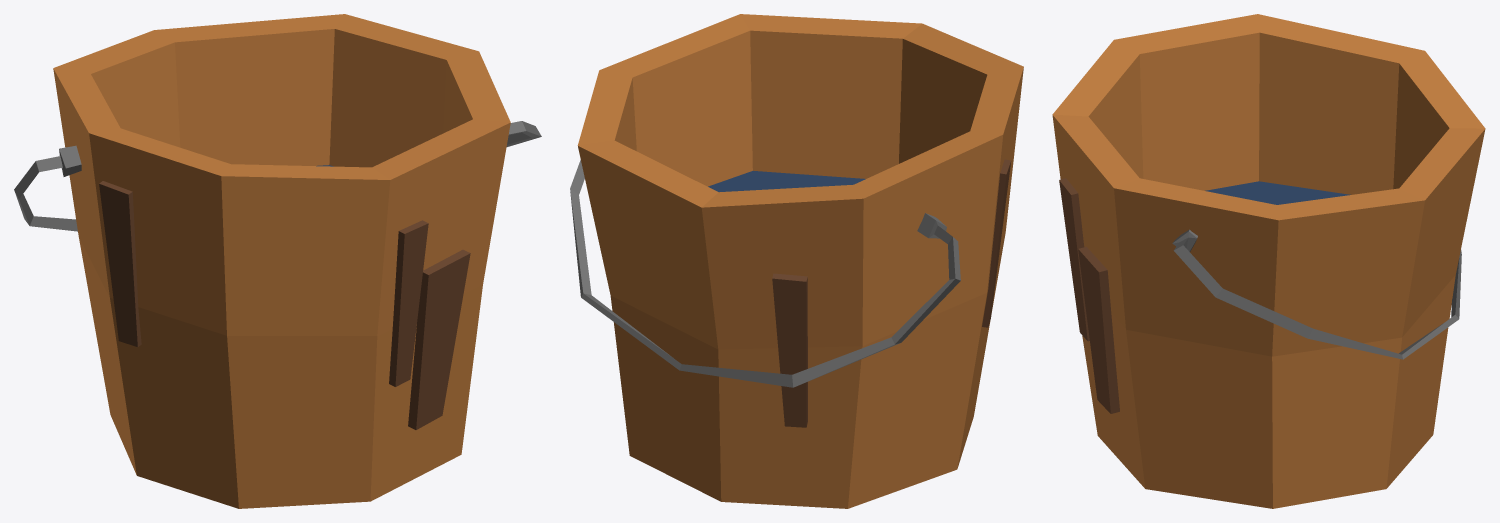
Rendered from bucket.glb.
The picture shows the model from 3 angles, left to right: view 1: azimuth 30°, elevation 25°; view 2: azimuth 150°, elevation 25°; view 3: azimuth 270°, elevation 25°; orthographic projection. The views are drawn at different scales.
Visible parts, largest first — view 1: gtmfc_bucket; view 2: gtmfc_bucket; view 3: gtmfc_bucket.
Boxes of the visible parts, x1,y1,x2,y2 form: gtmfc_bucket: (14,14,541,508); gtmfc_bucket: (570,14,1023,508); gtmfc_bucket: (1052,14,1485,508).
Bounding box in the file's own units: 0.4681 × 0.3566 × 0.4216.
1 material, 1 textured.
